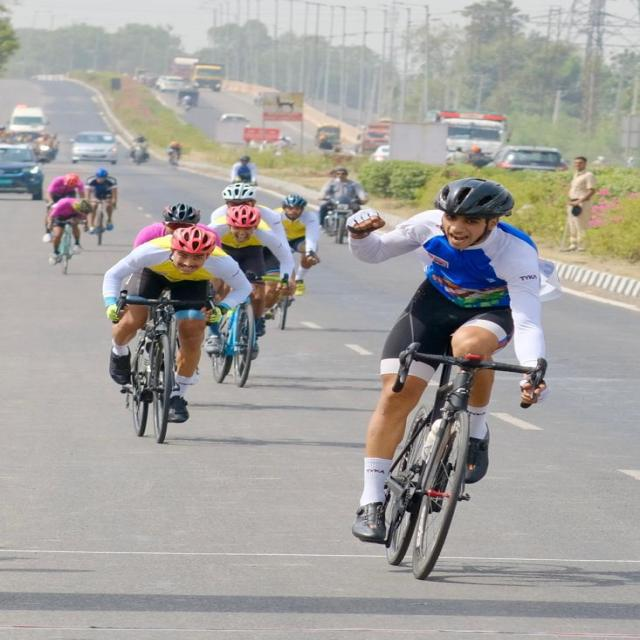bicycle: (348, 178, 545, 579), (103, 226, 251, 442)
